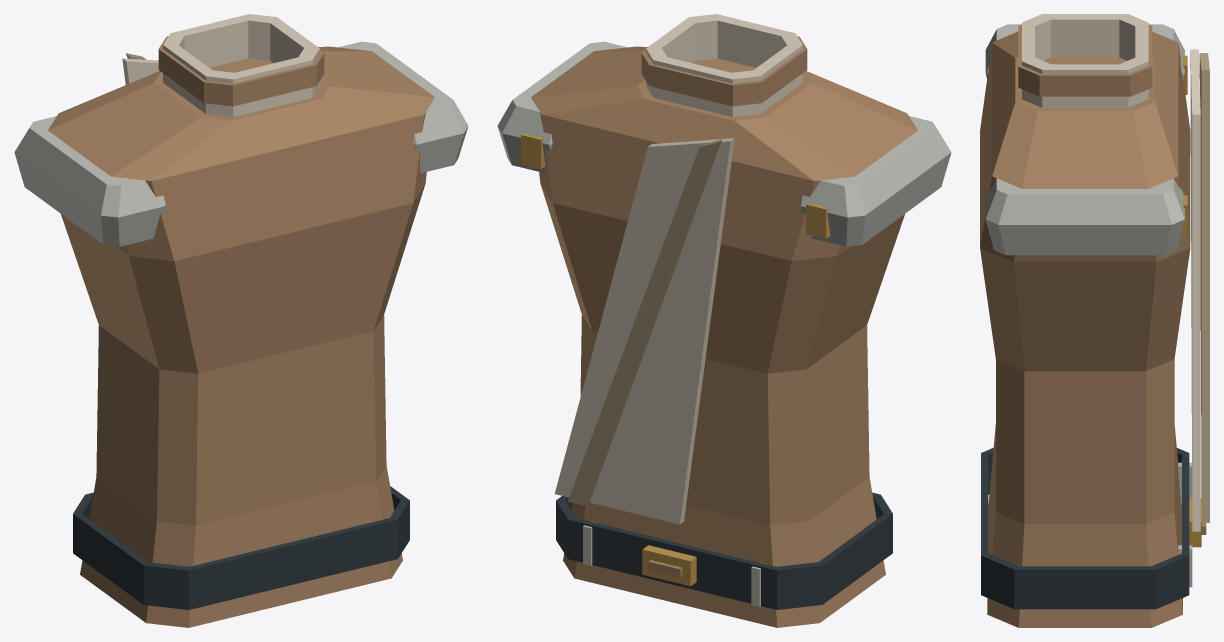
3 renders of one model, left to right at view 1: azimuth 30°, elevation 25°; view 2: azimuth 150°, elevation 25°; view 3: azimuth 270°, elevation 25°, orthographic.
Visible parts, largest first — view 1: 现有程序躯干 · 同用途配色; view 2: 现有程序躯干 · 同用途配色; view 3: 现有程序躯干 · 同用途配色.
Part boxes in pixels (box(x1,y1,x2,y2)): 现有程序躯干 · 同用途配色: box(14, 14, 468, 627); 现有程序躯干 · 同用途配色: box(497, 14, 951, 627); 现有程序躯干 · 同用途配色: box(980, 14, 1209, 627).
Bounding box in the file's own units: 0.458 × 0.62 × 0.247.
6 materials, 6 textured.
